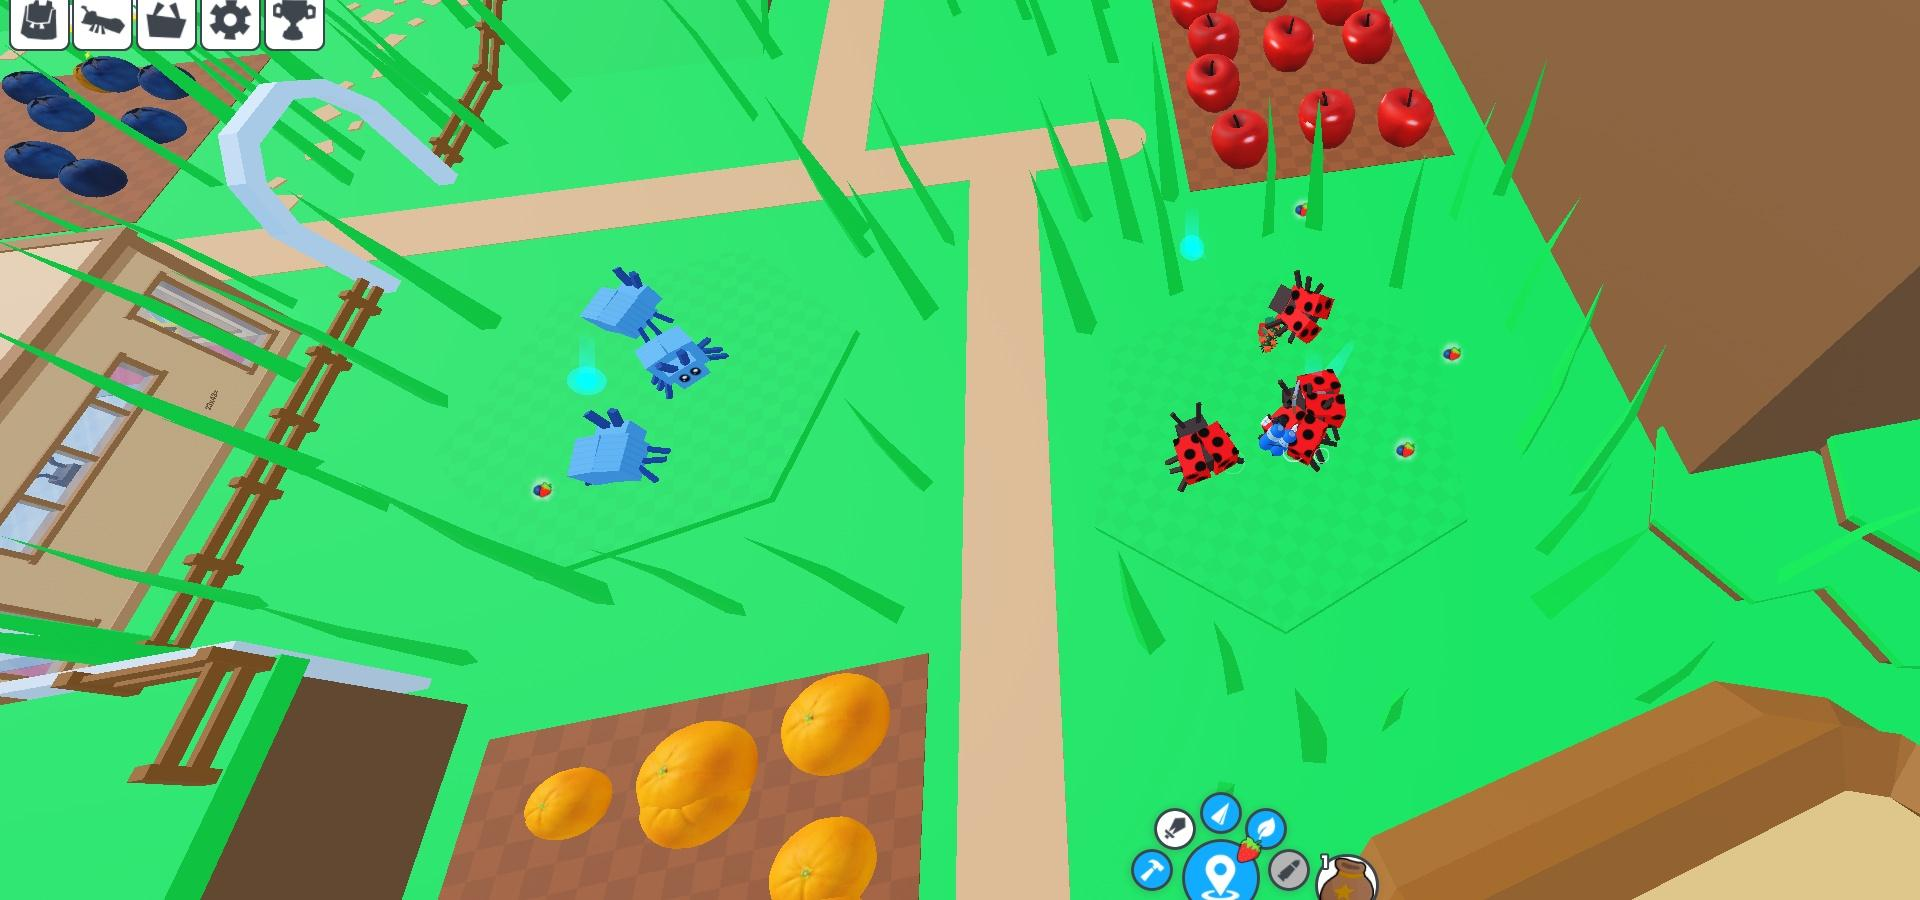Enemy: (1265, 371, 1353, 471), (572, 405, 669, 490), (1157, 403, 1244, 490), (574, 264, 672, 338), (640, 320, 726, 400), (1262, 280, 1338, 340)
